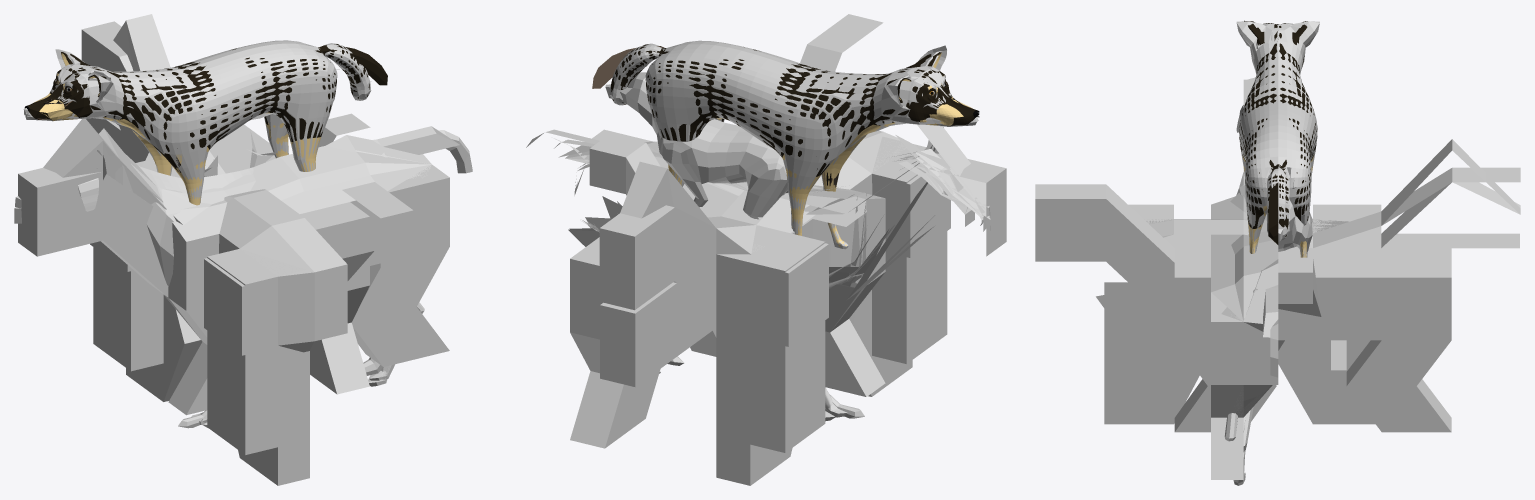
The model's file is dog1.glb.
3 renders of one model, left to right at view 1: azimuth 30°, elevation 25°; view 2: azimuth 150°, elevation 25°; view 3: azimuth 270°, elevation 25°, orthographic. The views are drawn at different scales.
Parts seen in each view (by area): view 1: Class Dog, Class Dogg 008.002, zStep 3, Step 5, New Dog, zStep 2, Class Dogg 011.002, Class Dog.005, Step 4 01, Class Dog.006, Class Dogg 002, Class Dogg 007 (+19 smaller); view 2: zStep 2, Class Dogg 008.005, zStep 3, New Dog, Class Dogg 011.002, Step 1, Dogg2, Class Dog, Step 4 01, Step 5, Dogg1, Class Dogg 002 (+11 smaller); view 3: New Dog, Step 4 01, Step 5, Class Dog, Dogg1, Class Dogg 008.005, Class Dogg 008.002, Class Dogg 011.002, Step 1, Class Dog.006, Class Dog.005, zStep 2 (+11 smaller).
Boxes of the visible parts, x1=… form: Class Dog: x1=18, y1=164, x2=449, y2=414; Class Dogg 008.002: x1=27, y1=43, x2=337, y2=202; zStep 3: x1=93, y1=247, x2=277, y2=454; Step 5: x1=126, y1=189, x2=347, y2=485; New Dog: x1=209, y1=124, x2=413, y2=394; zStep 2: x1=81, y1=21, x2=305, y2=355; Class Dogg 011.002: x1=24, y1=44, x2=368, y2=205; Class Dog.005: x1=106, y1=164, x2=448, y2=414; Step 4 01: x1=126, y1=346, x2=309, y2=485; Class Dog.006: x1=21, y1=134, x2=431, y2=406; Class Dogg 002: x1=21, y1=118, x2=430, y2=349; Class Dogg 007: x1=14, y1=150, x2=196, y2=286; zStep 2: x1=599, y1=136, x2=950, y2=346; Class Dogg 008.005: x1=645, y1=44, x2=977, y2=234; zStep 3: x1=716, y1=144, x2=947, y2=452; New Dog: x1=570, y1=14, x2=883, y2=448; Class Dogg 011.002: x1=611, y1=44, x2=978, y2=246; Step 1: x1=600, y1=254, x2=716, y2=386; Dogg2: x1=605, y1=72, x2=788, y2=219; Class Dog: x1=565, y1=129, x2=1006, y2=396; Step 4 01: x1=599, y1=269, x2=912, y2=485; Step 5: x1=721, y1=130, x2=911, y2=484; Dogg1: x1=589, y1=134, x2=812, y2=247; Class Dogg 002: x1=568, y1=124, x2=999, y2=395; New Dog: x1=1035, y1=184, x2=1451, y2=432; Step 4 01: x1=1104, y1=182, x2=1520, y2=424; Step 5: x1=1096, y1=219, x2=1374, y2=424; Class Dog: x1=1211, y1=79, x2=1278, y2=479; Dogg1: x1=1278, y1=218, x2=1346, y2=370; Class Dogg 008.005: x1=1278, y1=21, x2=1319, y2=257; Class Dogg 008.002: x1=1239, y1=23, x2=1278, y2=253; Class Dogg 011.002: x1=1239, y1=21, x2=1317, y2=257; Step 1: x1=1164, y1=233, x2=1519, y2=248; Class Dog.006: x1=1230, y1=102, x2=1278, y2=479; Class Dog.005: x1=1211, y1=196, x2=1247, y2=321; zStep 2: x1=1128, y1=167, x2=1520, y2=247.
Bounding box in the file's own units: 13.91 × 11.11 × 14.
6 materials, 1 textured.
